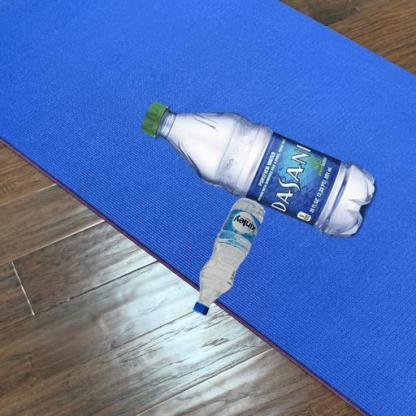bottle: (139, 100, 380, 242), (192, 197, 268, 319)
